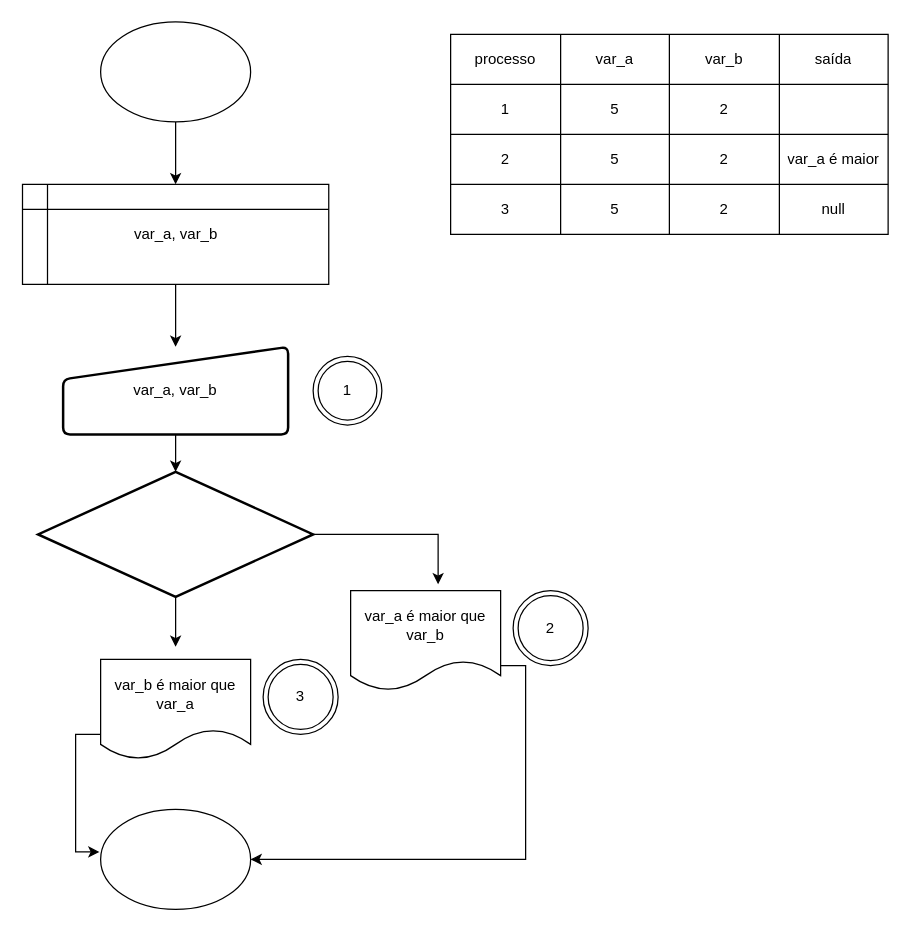
Image size: 910x931. Some labels were removed from this diagram. The shapes that lost their labels are listed below. From the top down, each one's box as (x1, y1, x2, y2) in pixels, then its label:
(99, 21, 251, 122): início
(36, 470, 314, 598): var_a > var_b
(99, 808, 251, 909): fim
